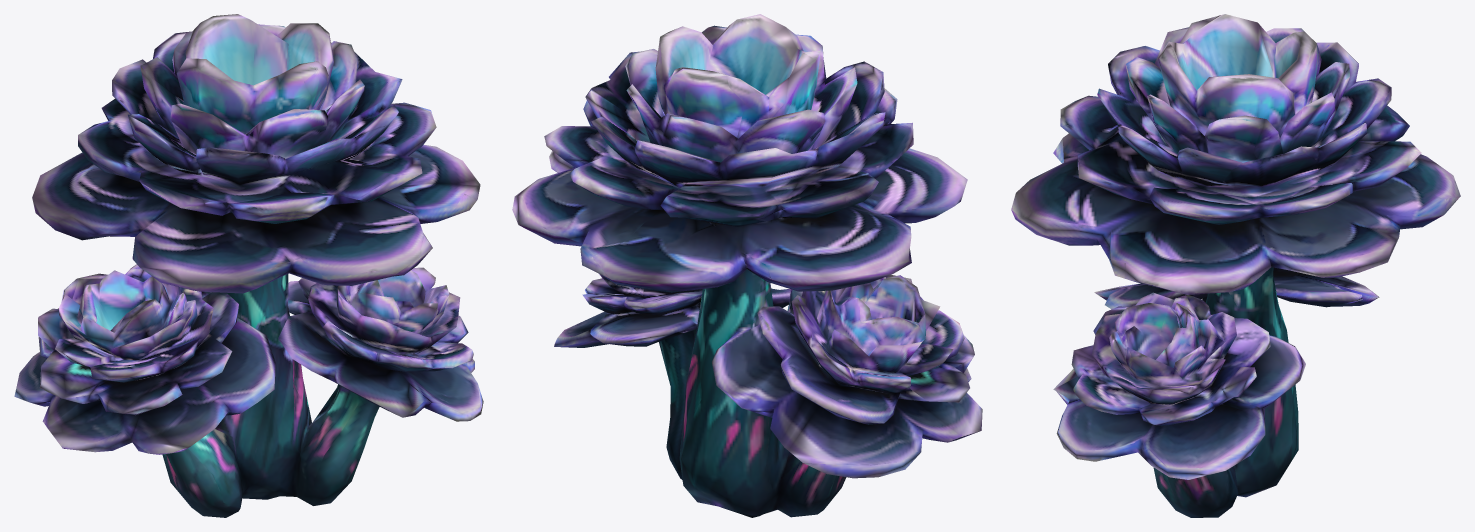
The model's file is crop_mushroomflower_mature.fbx.
3 views of the same model, side by side, from view 1: azimuth 30°, elevation 25°; view 2: azimuth 150°, elevation 25°; view 3: azimuth 270°, elevation 25° (orthographic). The views are drawn at different scales.
Visible parts, largest first — view 1: texture_mapping; view 2: texture_mapping; view 3: texture_mapping.
Part boxes in pixels (<box>): texture_mapping: <box>14,14,483,517</box>; texture_mapping: <box>512,14,982,517</box>; texture_mapping: <box>1011,14,1460,517</box>.
Bounding box in the file's own units: 56.7 × 60 × 54.46.
1 material, 1 textured.
